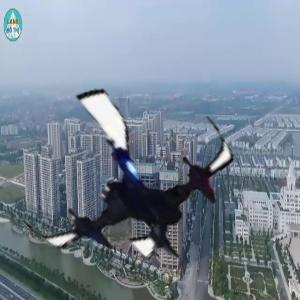drone: (13, 67, 237, 291)
